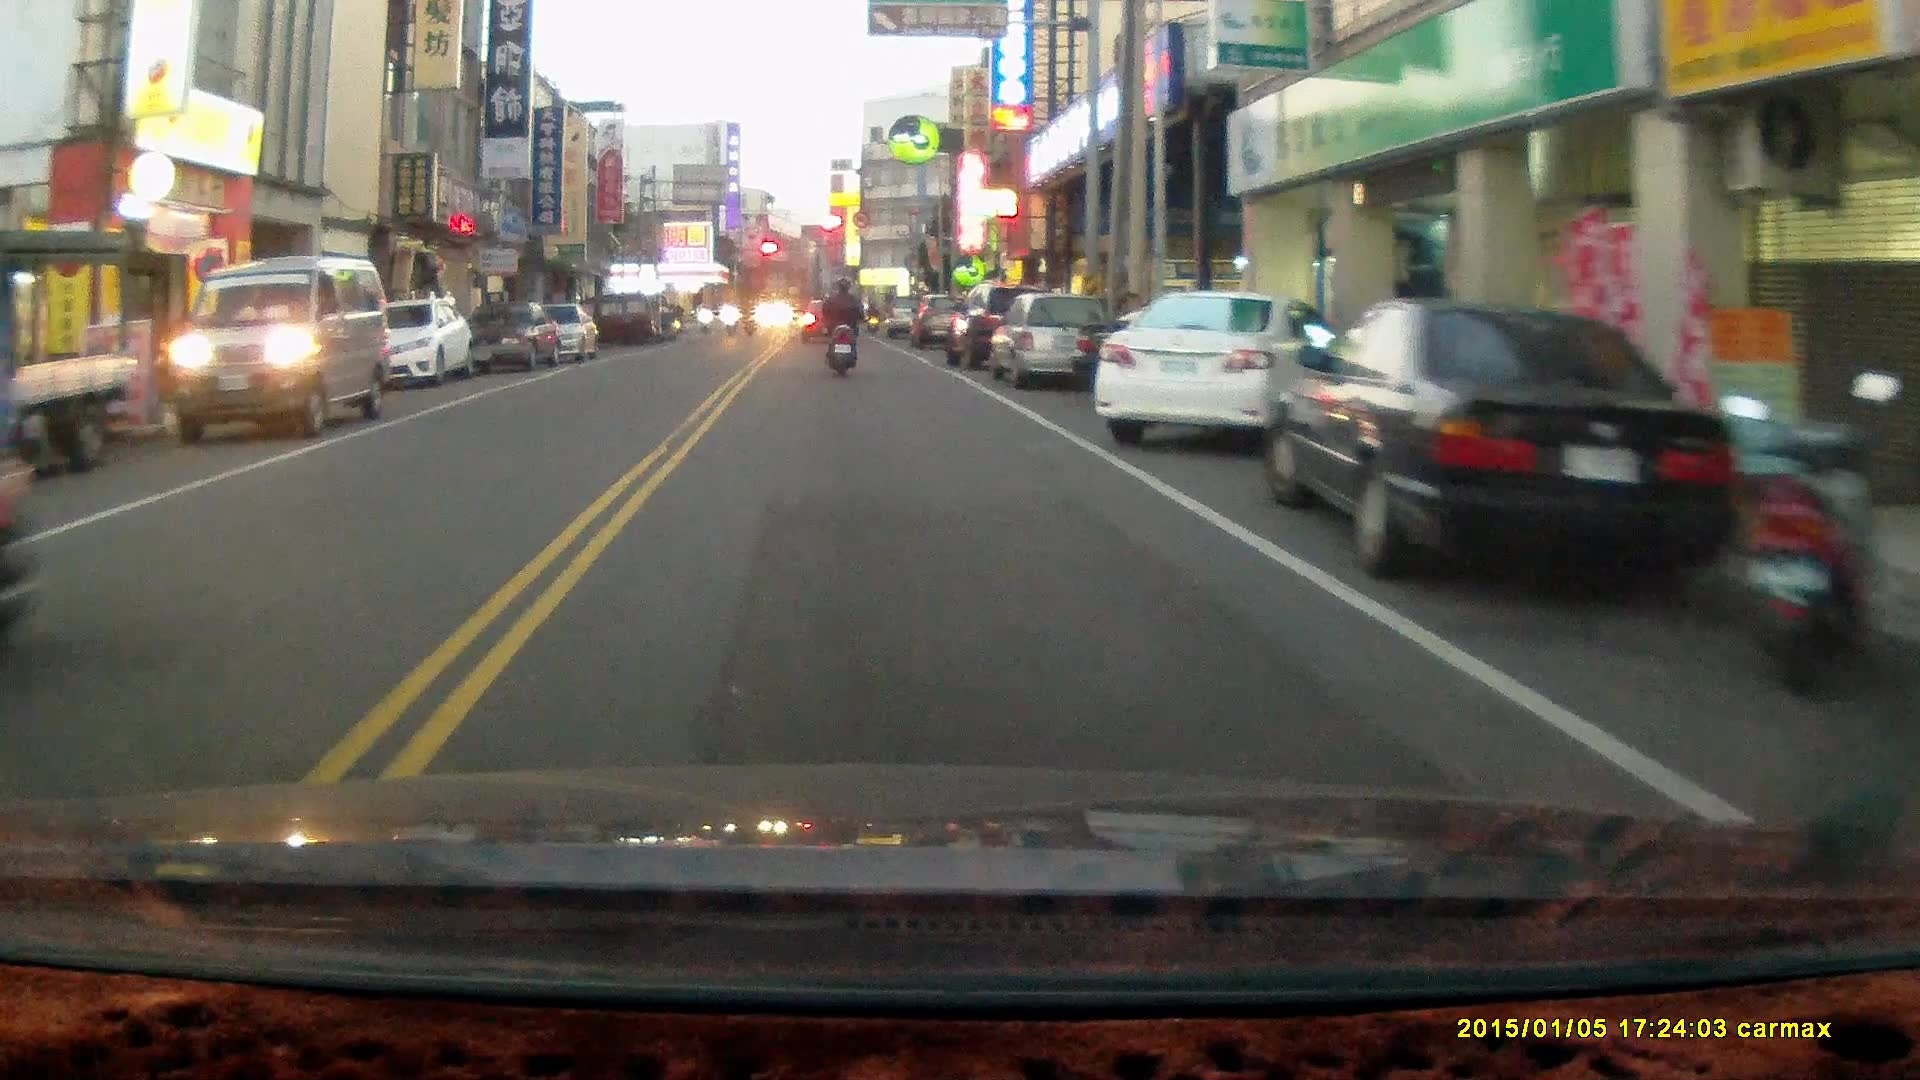rider: (820, 276, 866, 379)
vehicle: (1266, 300, 1784, 582), (177, 258, 395, 441), (1095, 289, 1333, 451), (0, 226, 138, 476), (987, 291, 1116, 392), (361, 298, 477, 390)
